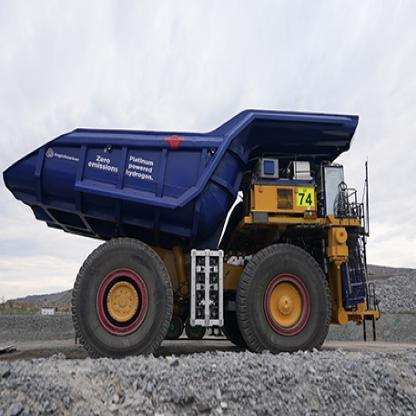dump_truck: (10, 83, 385, 353)
